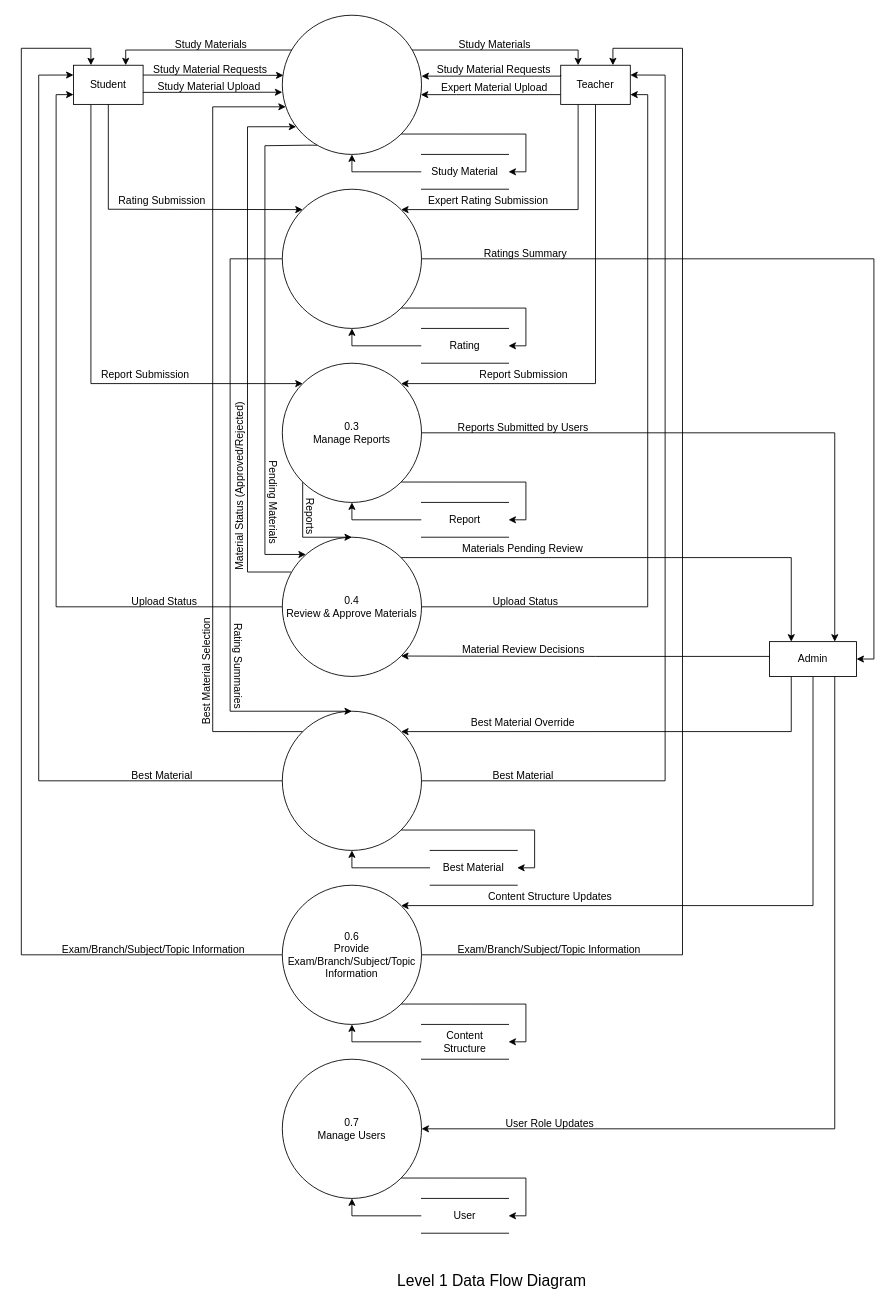
Image size: 896x1309. Some labels were removed from this diagram. Here are the shapes that lost their labels. From the top down, the box of each, then its label:
(281, 14, 422, 154): 0.1 Manage Study Materials
(281, 188, 422, 328): 0.2 Manage Ratings
(281, 710, 422, 850): 0.5 Determine Best Material
